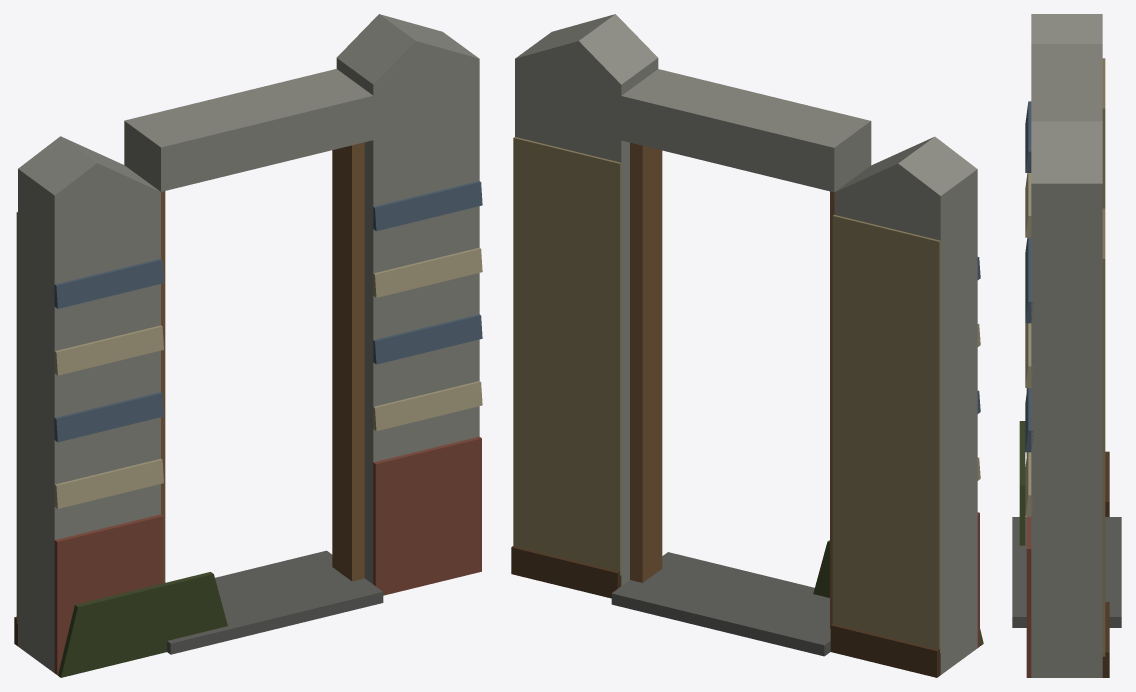
The model's file is ruins_house_wall_door.glb.
3 views of the same model, side by side, from view 1: azimuth 30°, elevation 25°; view 2: azimuth 150°, elevation 25°; view 3: azimuth 270°, elevation 25° (orthographic). The views are drawn at different scales.
Parts seen in each view (by area): view 1: ruins_house_wall_door_mesh; view 2: ruins_house_wall_door_mesh; view 3: ruins_house_wall_door_mesh.
Boxes of the visible parts, box(x1,y1,x2,y2) form: ruins_house_wall_door_mesh: box(14, 14, 482, 677); ruins_house_wall_door_mesh: box(511, 14, 983, 677); ruins_house_wall_door_mesh: box(1012, 14, 1121, 677).
Size of the model in its own units: 2 by 2.45 by 0.46.
